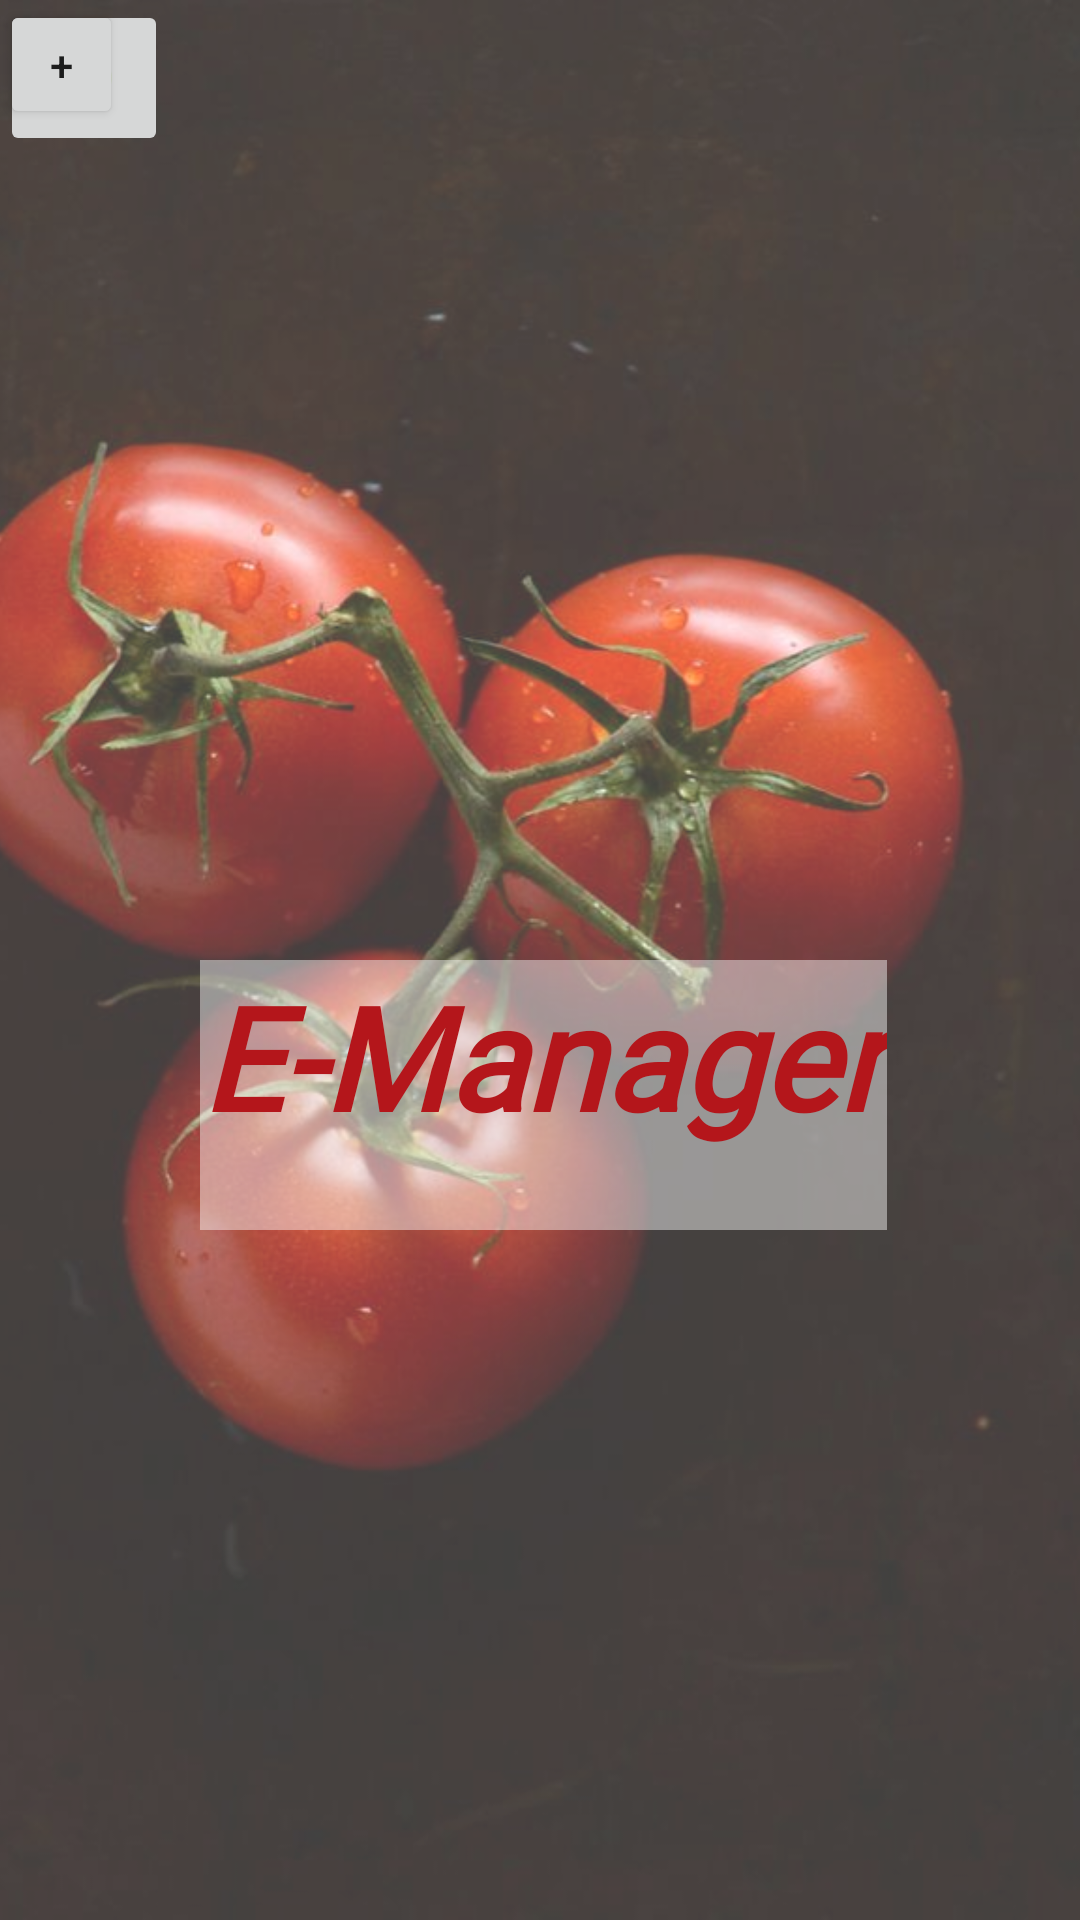

Icons on this 1080 x 1920 Android screen, each with its box as (x1, y1, x2, y2):
add: (12, 18, 156, 138)
